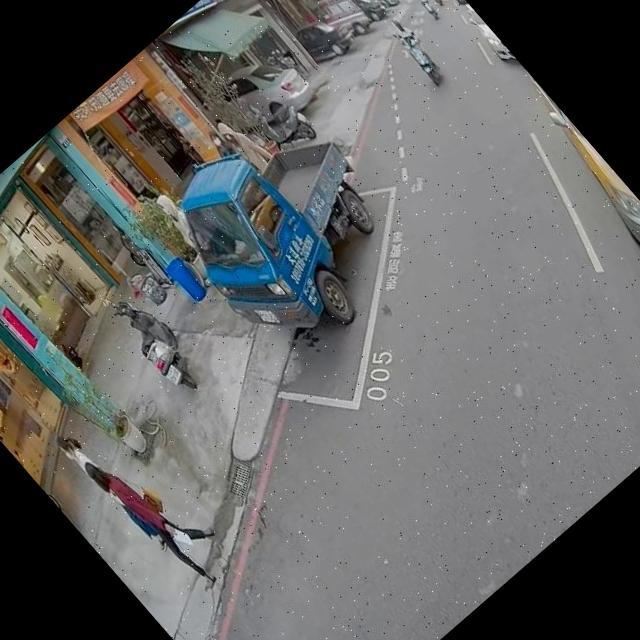person: (69, 417, 244, 606), (54, 417, 192, 567), (147, 186, 215, 260), (211, 108, 279, 180), (202, 122, 246, 170), (384, 15, 422, 54)
